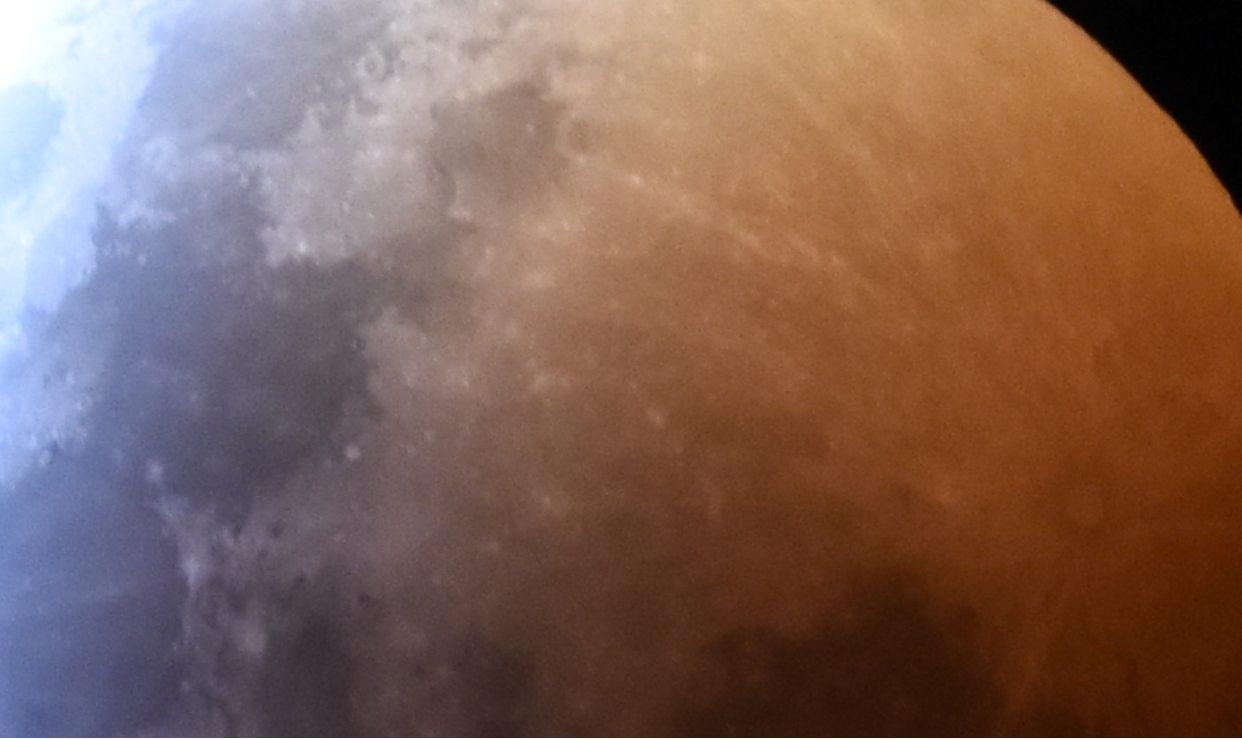crater: (961, 337, 1213, 647), (166, 533, 227, 604), (676, 37, 735, 88), (229, 614, 278, 671), (135, 130, 187, 183), (343, 569, 392, 623), (629, 392, 677, 444), (347, 44, 391, 88), (614, 157, 656, 203), (417, 557, 456, 601), (471, 524, 512, 565), (446, 364, 486, 400), (336, 438, 372, 475), (137, 450, 171, 488), (283, 230, 320, 264), (515, 109, 545, 147)
